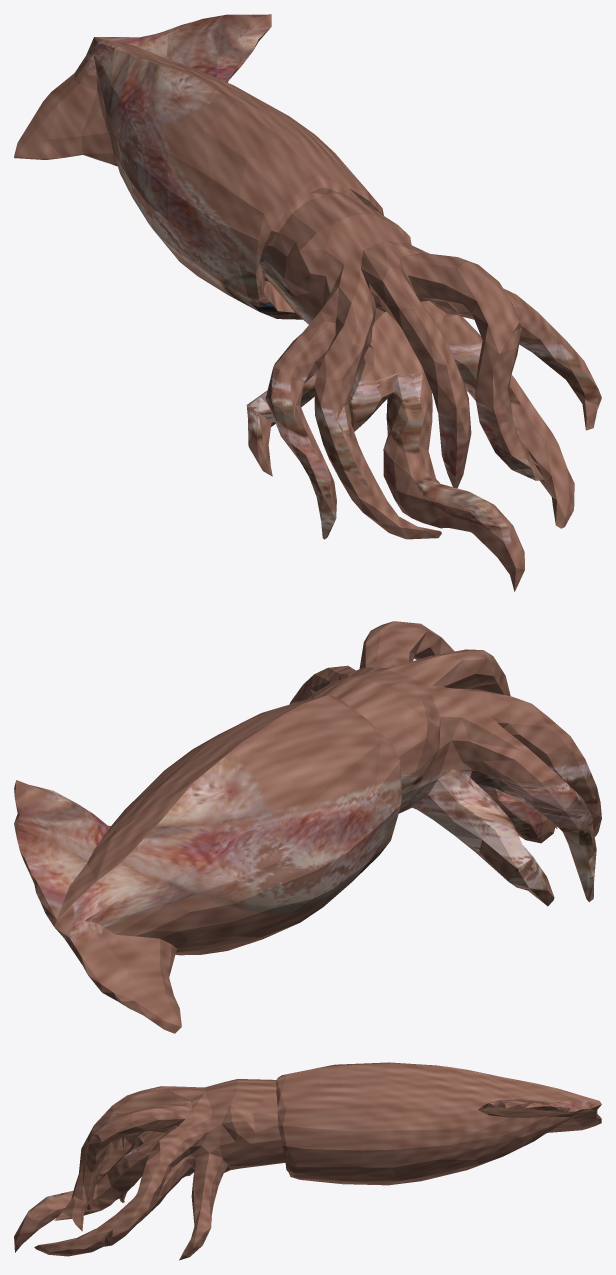
The model's file is fish_muc_reduced.glb.
3 views of the same model, one above another, from view 1: azimuth 30°, elevation 25°; view 2: azimuth 150°, elevation 25°; view 3: azimuth 270°, elevation 25° (orthographic). The views are drawn at different scales.
Parts seen in each view (by area): view 1: CoveredSurface; view 2: CoveredSurface; view 3: CoveredSurface.
Part boxes in pixels (x1,y1,x2,y2): CoveredSurface: (14,14,601,591); CoveredSurface: (14,621,601,1033); CoveredSurface: (14,1062,601,1260).
Size of the model in its own units: 0.7664 by 0.71 by 1.99.
1 material, 1 textured.
